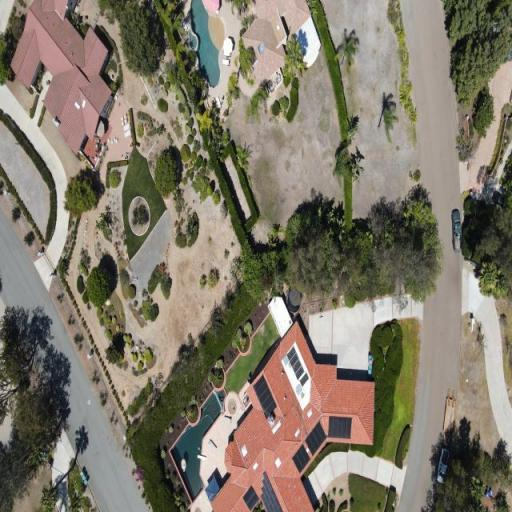solar-panel: (253, 374, 277, 419), (260, 471, 283, 512), (305, 421, 327, 456), (292, 444, 311, 474), (328, 416, 352, 439), (243, 485, 259, 511), (287, 346, 296, 361), (293, 359, 302, 374), (290, 353, 299, 367), (295, 366, 304, 380), (300, 373, 309, 387)
